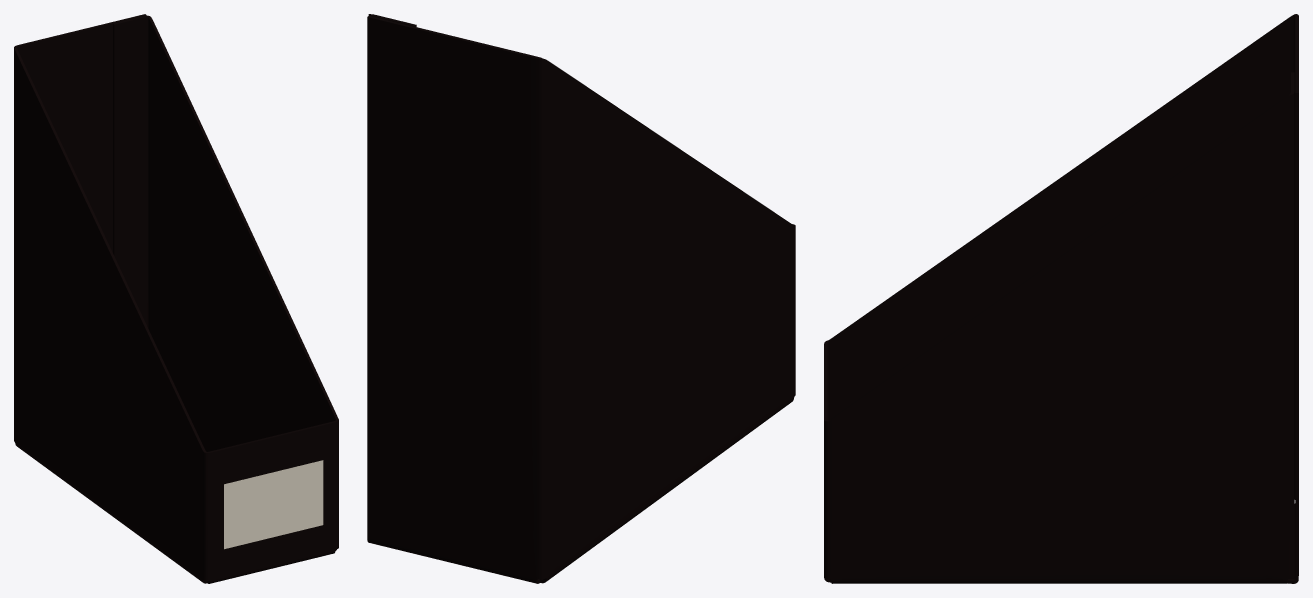
The model's file is Folder1.fbx.
The picture shows the model from 3 angles, left to right: view 1: azimuth 30°, elevation 25°; view 2: azimuth 150°, elevation 25°; view 3: azimuth 270°, elevation 25°; orthographic projection. The views are drawn at different scales.
Parts seen in each view (by area): view 1: Folder1, Plane025; view 2: Folder1; view 3: Folder1.
Boxes of the visible parts, bbox=[...] form: Folder1: bbox=[14, 14, 338, 583]; Plane025: bbox=[224, 460, 323, 549]; Folder1: bbox=[367, 14, 795, 583]; Folder1: bbox=[824, 14, 1298, 583].
Size of the model in its own units: 76.89 by 217 by 190.
